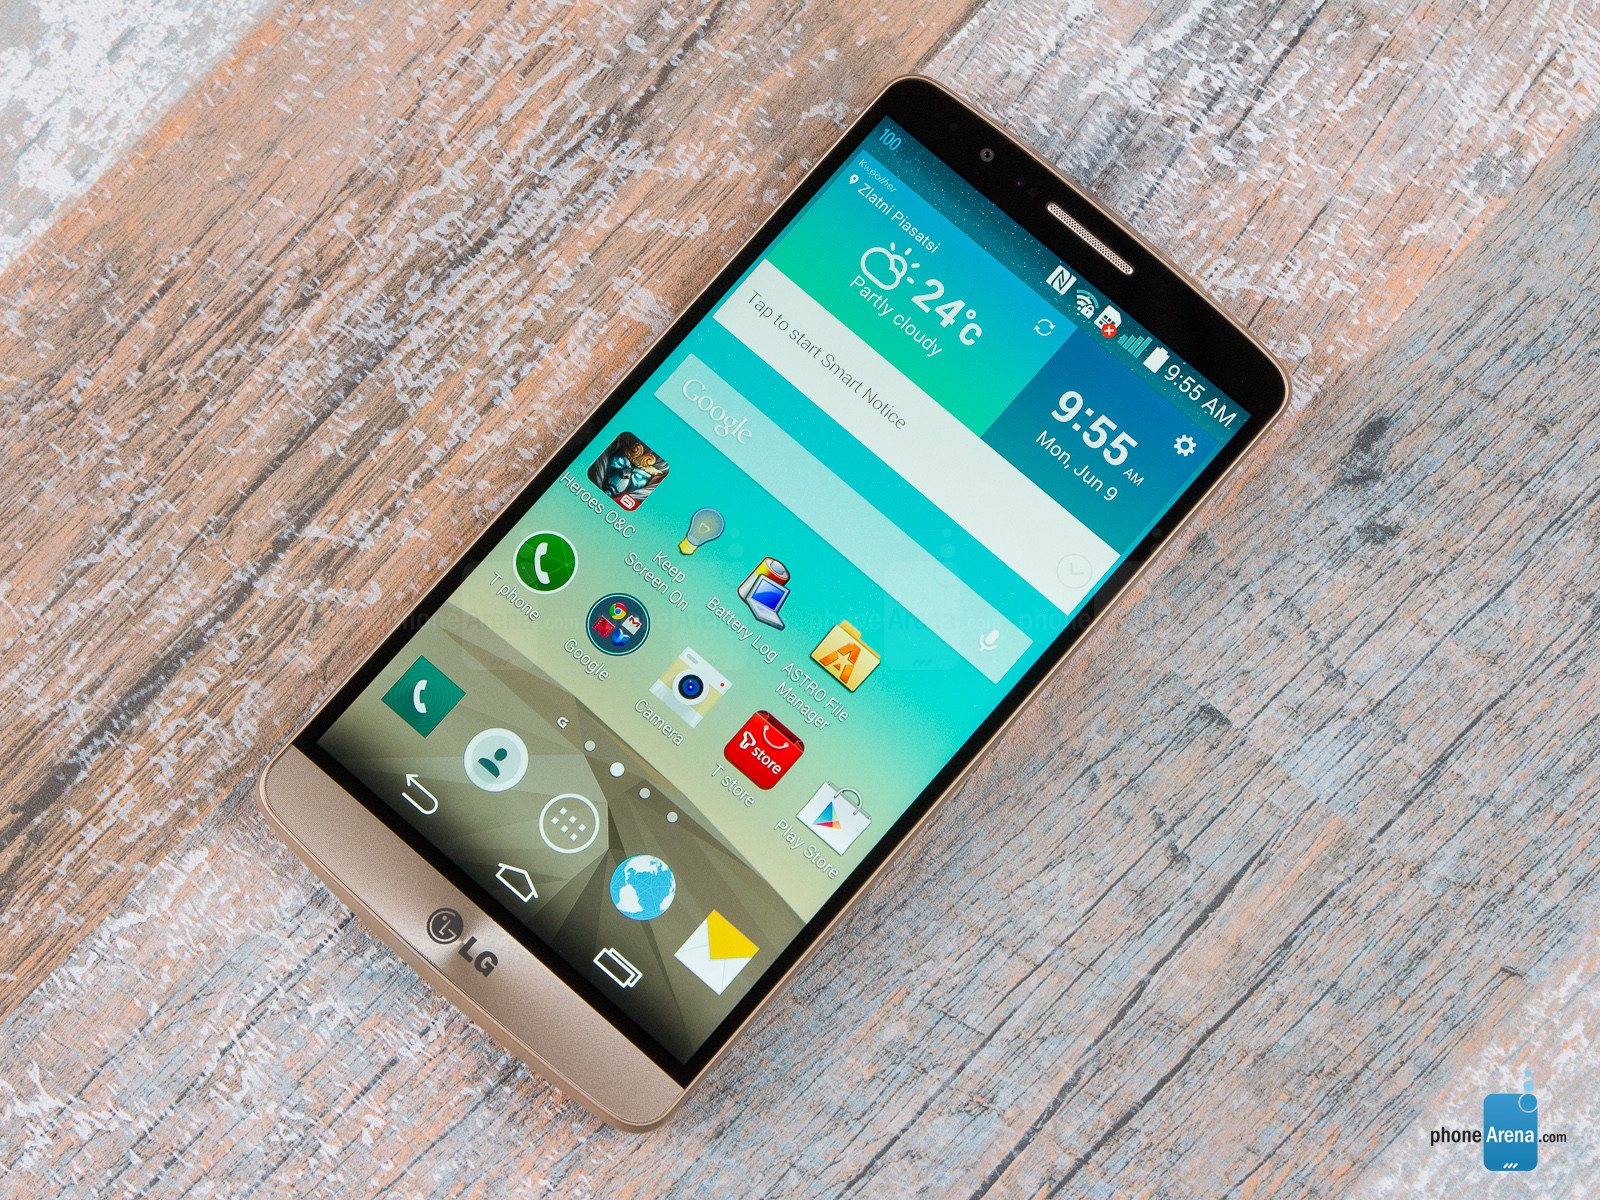smartphone: (257, 76, 1293, 1134)
